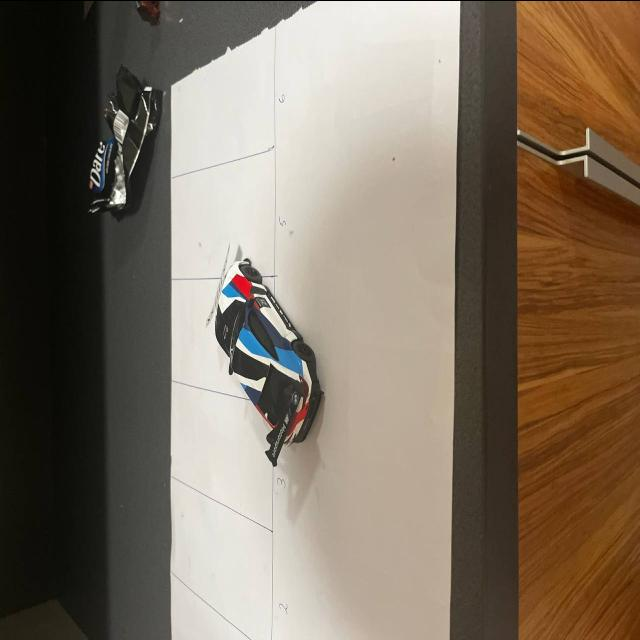cars: (193, 207, 347, 485)
